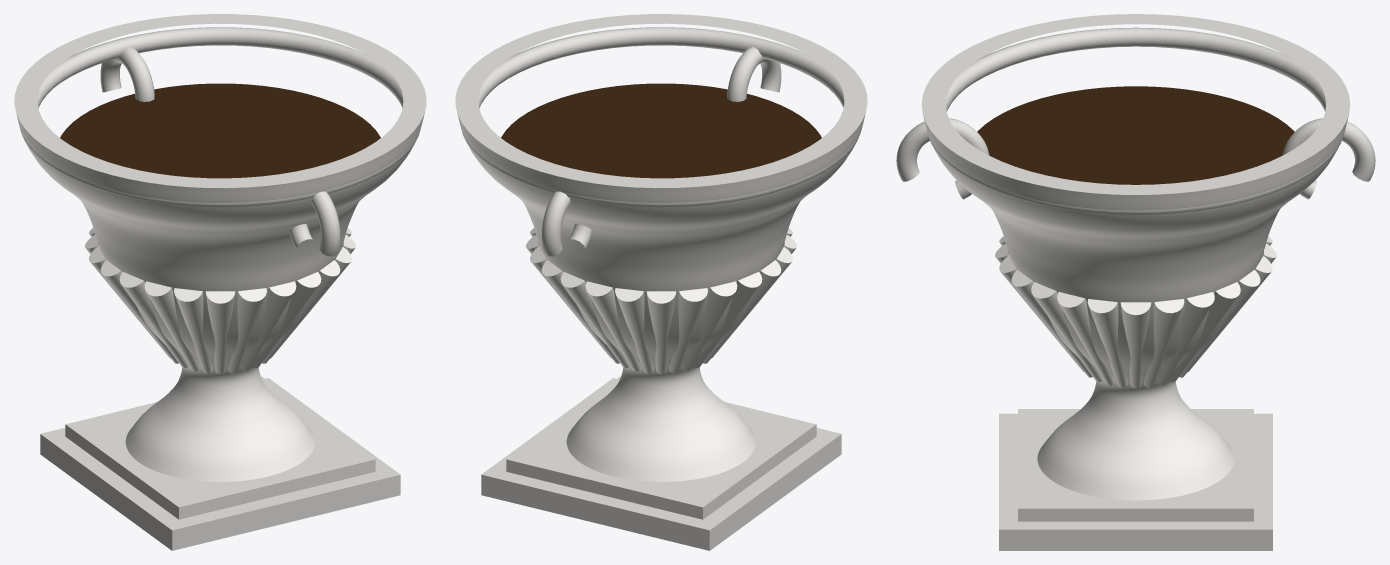
3 views of the same model, side by side, from view 1: azimuth 30°, elevation 25°; view 2: azimuth 150°, elevation 25°; view 3: azimuth 270°, elevation 25° (orthographic). The views are drawn at different scales.
Visible parts, largest first — view 1: bowl, soil, rim-top, plinth, plinth-cap, rim-roll, handle-0, handle-1, gadroon-2, gadroon-1, gadroon-3, gadroon-0 (+5 smaller); view 2: bowl, soil, rim-top, plinth, plinth-cap, rim-roll, handle-1, handle-0, gadroon-10, gadroon-11, gadroon-9, gadroon-8 (+5 smaller); view 3: bowl, soil, rim-top, plinth, plinth-cap, rim-roll, handle-0, handle-1, gadroon-18, gadroon-17, gadroon-19, gadroon-16 (+5 smaller).
Boxes of the visible parts, x1,y1,x2,y2 form: bowl: (16, 112, 424, 481); soil: (60, 83, 380, 178); rim-top: (14, 14, 426, 188); plinth: (40, 378, 400, 550); plinth-cap: (65, 376, 375, 519); rim-roll: (20, 27, 419, 207); handle-0: (100, 47, 154, 101); handle-1: (289, 191, 340, 256); gadroon-2: (205, 291, 235, 374); gadroon-1: (228, 288, 266, 373); gadroon-3: (174, 288, 212, 373); gadroon-0: (240, 281, 296, 371); bowl: (457, 112, 865, 481); soil: (501, 83, 821, 178); rim-top: (455, 14, 867, 188); plinth: (481, 378, 841, 550); plinth-cap: (506, 376, 816, 519); rim-roll: (462, 27, 861, 207); handle-1: (727, 47, 781, 101); handle-0: (541, 191, 592, 256); gadroon-10: (646, 291, 676, 374); gadroon-11: (615, 288, 653, 373); gadroon-9: (669, 288, 707, 373); gadroon-8: (681, 281, 737, 371); bowl: (923, 115, 1348, 500); soil: (977, 86, 1294, 184); rim-top: (921, 14, 1350, 194); plinth: (999, 413, 1272, 550); plinth-cap: (1018, 409, 1253, 521); rim-roll: (927, 27, 1344, 214); handle-0: (1282, 118, 1375, 199); handle-1: (896, 118, 989, 199); gadroon-18: (1120, 302, 1151, 388); gadroon-17: (1143, 299, 1184, 387); gadroon-19: (1087, 299, 1128, 387); gadroon-16: (1156, 292, 1214, 385).
Bounding box in the file's own units: 0.9 × 0.9 × 1.01.
